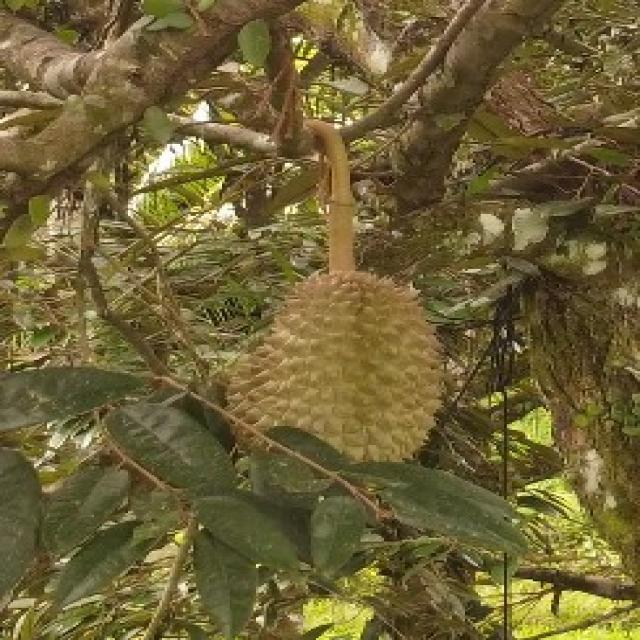mature: (233, 268, 446, 496)
